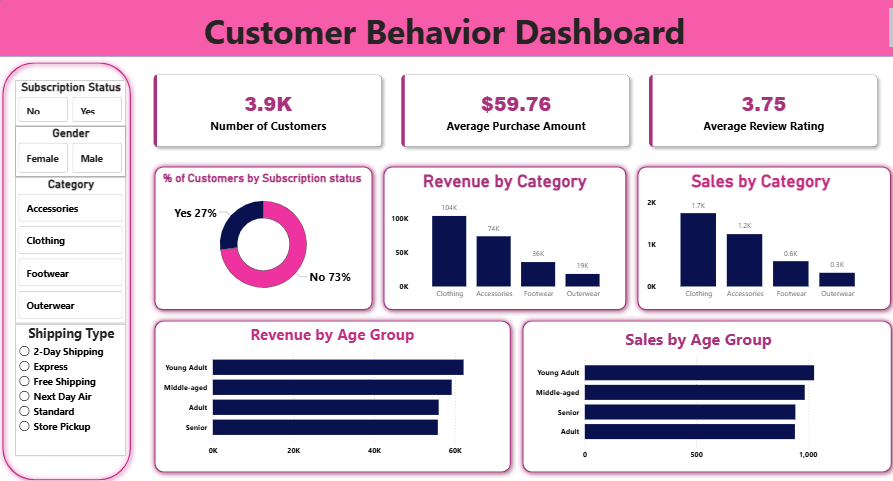

Layout of this report page (visuals, bound fields, positions):
{"tool":"powerbi","page":{"name":"Page 1","canvas":[1500,820],"ordinal":0},"visuals":[{"type":"cardVisual","fields":{"Data":["public customer.Number of Customers","public customer.Average Purchase Amount","public customer.Average Review Rating"]},"box":[232.3,106.3,1267.7,179.1],"z":0},{"type":"shape","box":[0,0,1500,106.3],"z":1000},{"type":"textbox","box":[0,19.7,1500,86.6],"z":2000},{"type":"shape","box":[253.9,279.5,381.9,257.9],"z":3000},{"type":"donutChart","title":"% of Customers by Subscription status","fields":{"Category":["public customer.subscription_status"],"Y":["CountNonNull(public customer.customer_id)"]},"box":[271.7,297.2,344.5,222.4],"z":4000},{"type":"shape","box":[635.8,279.5,423.2,257.9],"z":5000},{"type":"shape","box":[1059.1,279.5,440.9,257.9],"z":6000},{"type":"clusteredColumnChart","title":"Revenue by Category","fields":{"Y":["Sum(public customer.purchase_amount)"],"Category":["public customer.category"]},"box":[651.6,297.2,389.8,222.4],"z":7000},{"type":"clusteredColumnChart","title":"Sales by Category","fields":{"Y":["CountNonNull(public customer.customer_id)"],"Category":["public customer.category"]},"box":[1078.7,297.2,389.8,222.4],"z":8000},{"type":"shape","box":[0,106.3,232.3,714.6],"z":9000},{"type":"advancedSlicerVisual","title":"Subscription Status","fields":{"Values":["public customer.subscription_status"]},"box":[29.5,145.7,185,76.8],"z":10000},{"type":"advancedSlicerVisual","title":"Gender","fields":{"Values":["public customer.gender"]},"box":[29.5,222.4,185,84.6],"z":11000},{"type":"advancedSlicerVisual","title":"Category","fields":{"Values":["public customer.category"]},"box":[29.5,307.1,185,244.1],"z":12000},{"type":"listSlicer","title":"Shipping Type","fields":{"Values":["public customer.shipping_type"]},"box":[29.5,551.2,185,220.5],"z":13000},{"type":"shape","box":[253.9,537.4,612.2,271.7],"z":14000},{"type":"shape","box":[866.1,537.4,633.9,271.7],"z":15000},{"type":"clusteredBarChart","title":"Sales by Age Group","fields":{"Y":["CountNonNull(public customer.customer_id)"],"Category":["public customer.age_group"]},"box":[891.7,559.1,555.1,228.3],"z":16000},{"type":"clusteredBarChart","title":"Revenue by Age Group","fields":{"Y":["Sum(public customer.purchase_amount)"],"Category":["public customer.age_group"]},"box":[271.7,551.2,574.8,228.3],"z":17000}]}

Visuals, with their boxes in screenshot pixels (x1, y1, x2, y2), scaled from the page's 1500x820 canvas onto the 893x481 screenshot:
cardVisual - public customer.Number of Customers x public customer.Average Purchase Amount: {"x1": 138, "y1": 62, "x2": 892, "y2": 167}
shape: {"x1": 0, "y1": 0, "x2": 892, "y2": 62}
textbox: {"x1": 0, "y1": 12, "x2": 892, "y2": 62}
shape: {"x1": 151, "y1": 164, "x2": 379, "y2": 315}
"% of Customers by Subscription status" donutChart: {"x1": 162, "y1": 174, "x2": 367, "y2": 305}
shape: {"x1": 379, "y1": 164, "x2": 630, "y2": 315}
shape: {"x1": 631, "y1": 164, "x2": 892, "y2": 315}
"Revenue by Category" clusteredColumnChart: {"x1": 388, "y1": 174, "x2": 620, "y2": 305}
"Sales by Category" clusteredColumnChart: {"x1": 642, "y1": 174, "x2": 874, "y2": 305}
shape: {"x1": 0, "y1": 62, "x2": 138, "y2": 480}
"Subscription Status" advancedSlicerVisual: {"x1": 18, "y1": 85, "x2": 128, "y2": 131}
"Gender" advancedSlicerVisual: {"x1": 18, "y1": 130, "x2": 128, "y2": 180}
"Category" advancedSlicerVisual: {"x1": 18, "y1": 180, "x2": 128, "y2": 323}
"Shipping Type" listSlicer: {"x1": 18, "y1": 323, "x2": 128, "y2": 453}
shape: {"x1": 151, "y1": 315, "x2": 516, "y2": 475}
shape: {"x1": 516, "y1": 315, "x2": 892, "y2": 475}
"Sales by Age Group" clusteredBarChart: {"x1": 531, "y1": 328, "x2": 861, "y2": 462}
"Revenue by Age Group" clusteredBarChart: {"x1": 162, "y1": 323, "x2": 504, "y2": 457}
